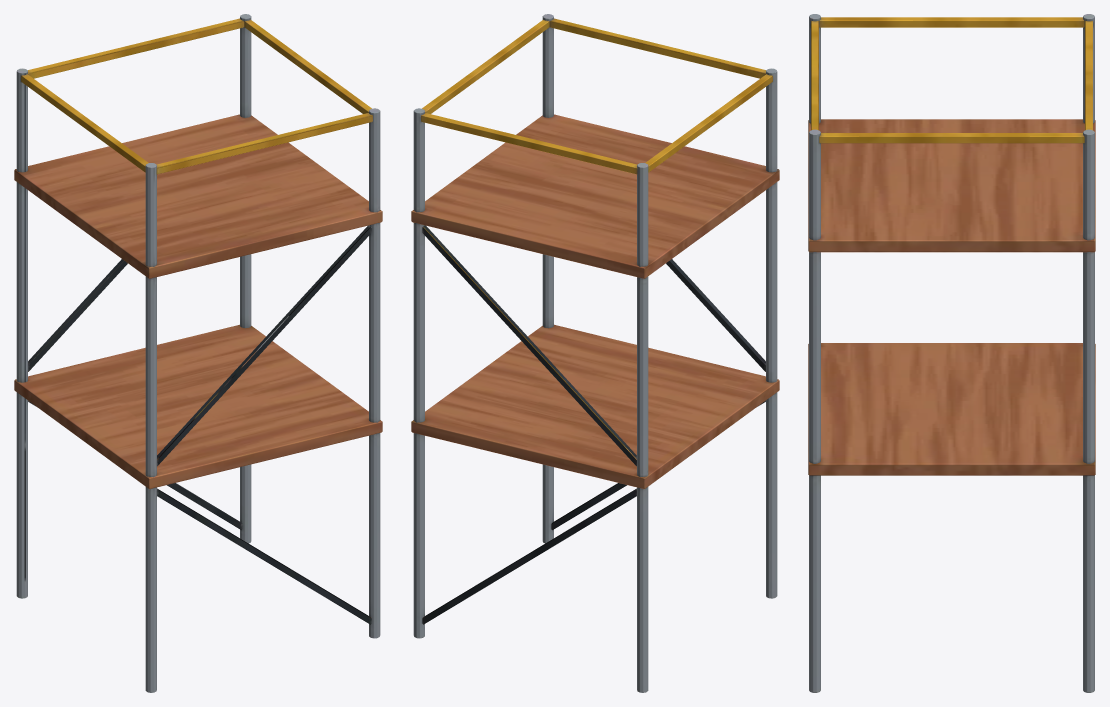
The model's file is scaffold_tower.glb.
3 views of the same model, side by side, from view 1: azimuth 30°, elevation 25°; view 2: azimuth 150°, elevation 25°; view 3: azimuth 270°, elevation 25° (orthographic). The views are drawn at different scales.
Visible parts, largest first — view 1: ScaffoldTower; view 2: ScaffoldTower; view 3: ScaffoldTower.
Part boxes in pixels (box(x1,y1,x2,y2)): ScaffoldTower: box(14, 14, 382, 692); ScaffoldTower: box(411, 14, 779, 692); ScaffoldTower: box(808, 14, 1095, 692).
Size of the model in its own units: 2.1 by 4.5 by 2.1.
1 material, 1 textured.
